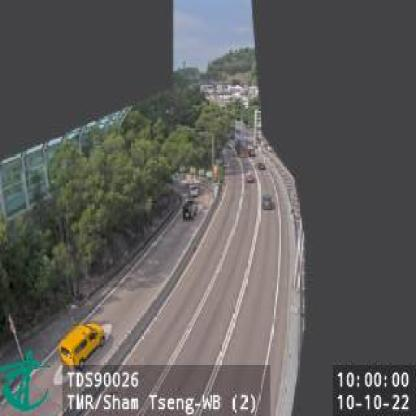Car: (58, 320, 110, 374), (182, 200, 196, 219), (262, 192, 273, 209)
